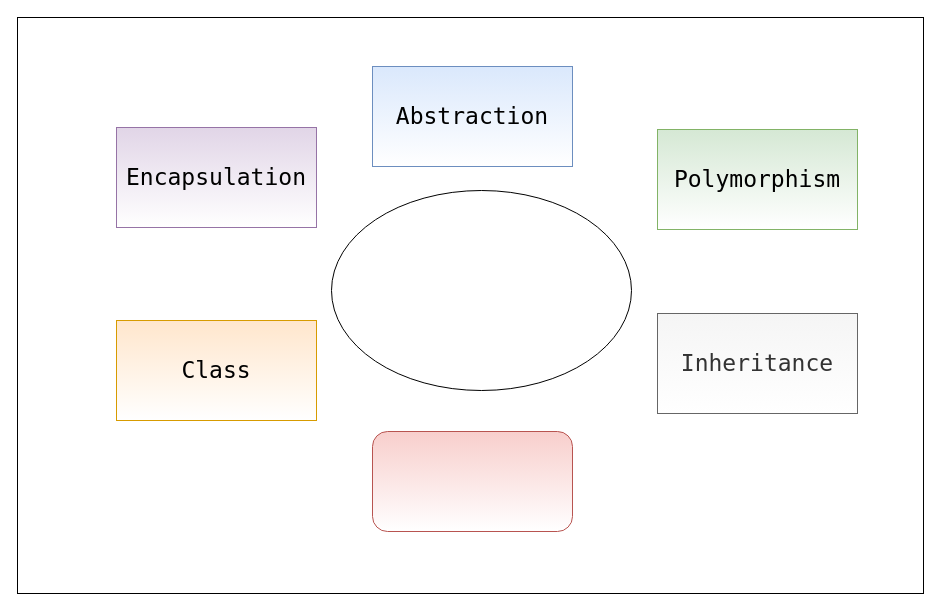
Image size: 941x611. Some labels were removed from this diagram. Here are the shapes that lost their labels. From the top down, the box of each, then its label:
(330, 190, 632, 390): Object Oriented Programming.
(372, 430, 572, 532): Object
